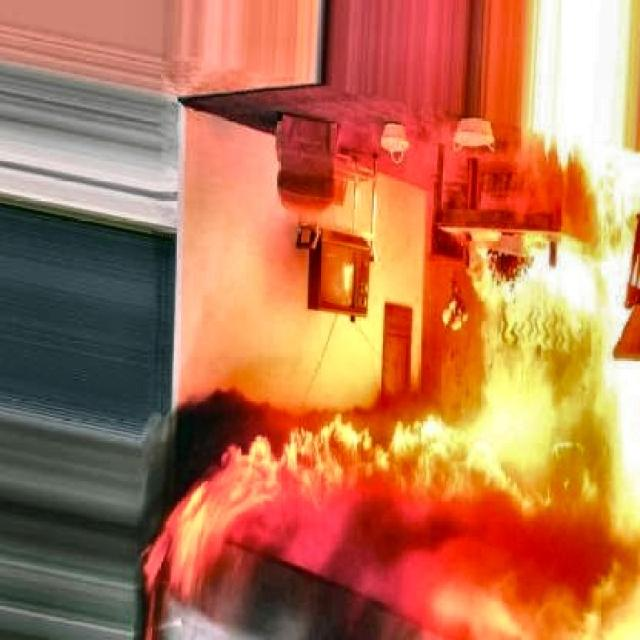fire: (137, 121, 640, 640)
